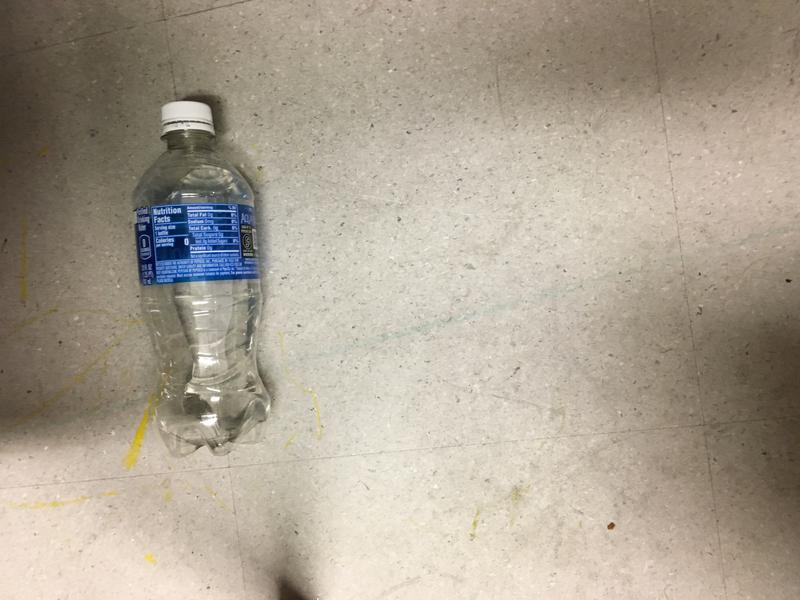bottle: (133, 99, 276, 461)
